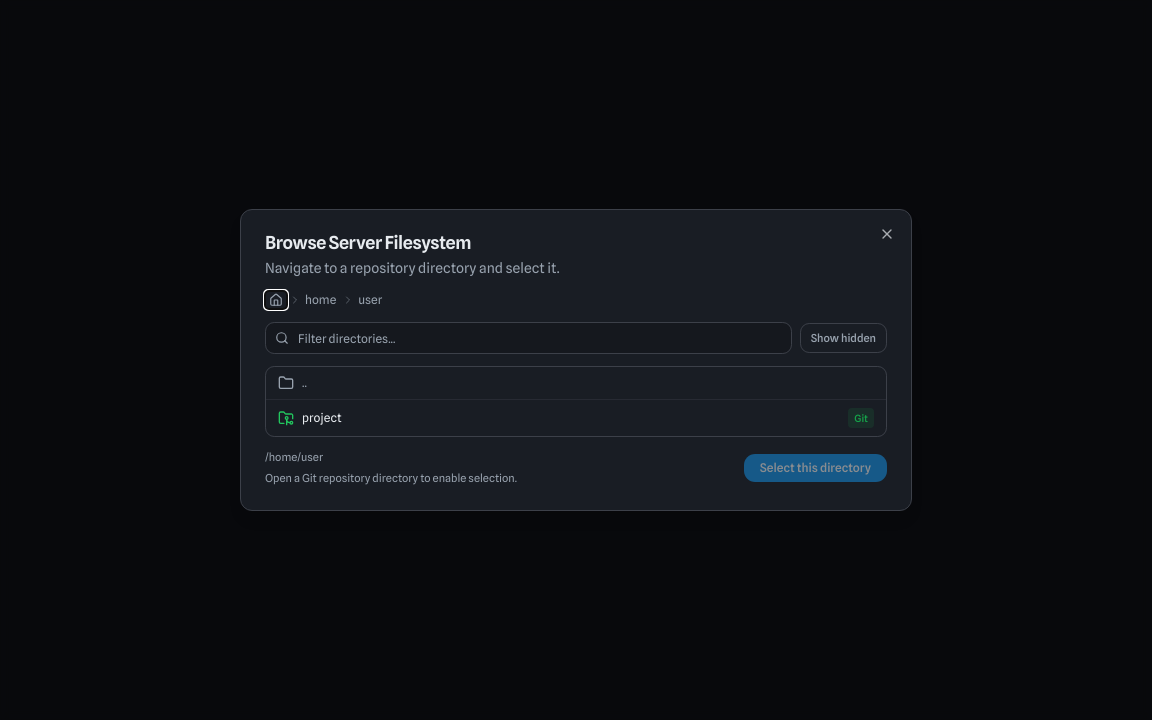
it: FileBrowserModal › hides hidden folders by default and disables selection outside git repos
Expected: the text ".ssh" is not shown
Expected: the button "Select this directory" is disabled, [744,454,887,482]
Click the button "Show hidden" at (843, 338), box [800,323,887,353]
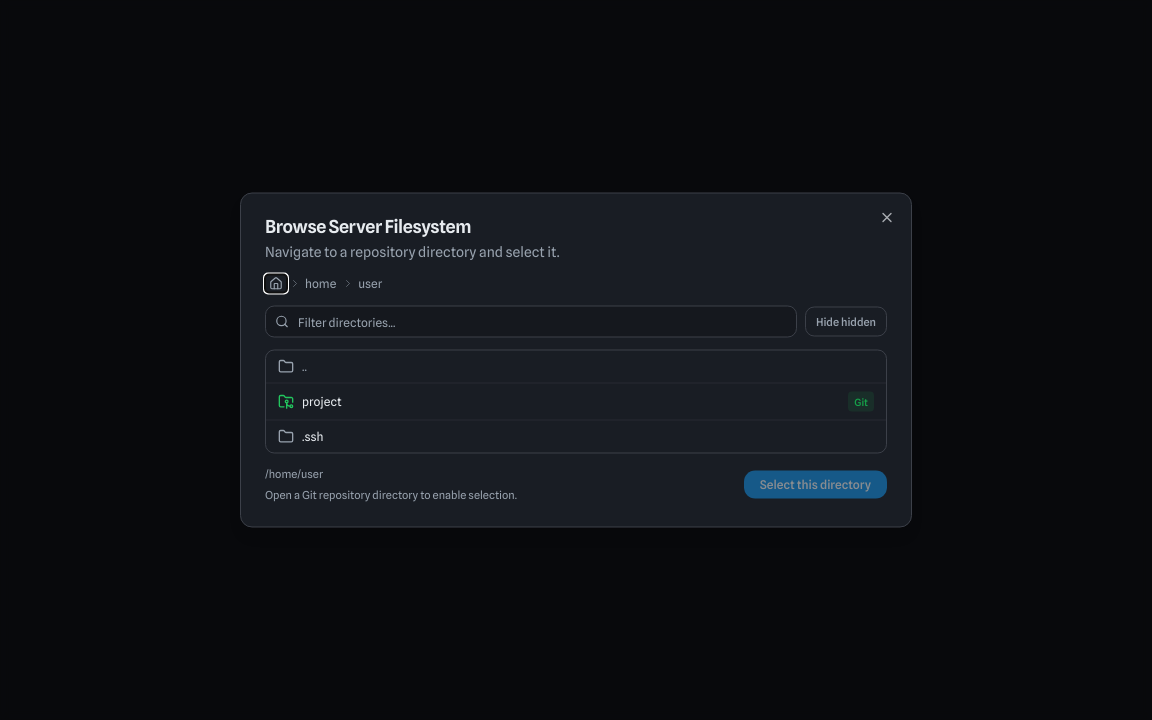
Expected: the text ".ssh" is shown, [302,428,323,444]
